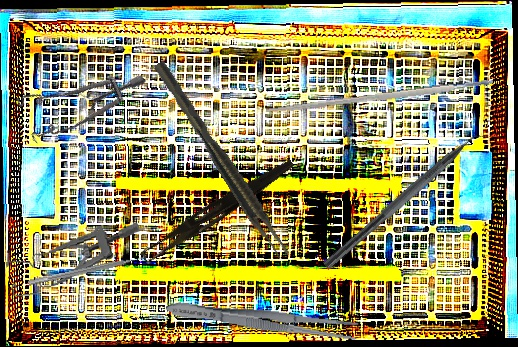Chopper: (321, 118, 500, 282)
Dressing Forceps: (138, 151, 297, 270), (164, 295, 360, 344)
Fixation Ring: (26, 245, 152, 293)
Scalpel Handle: (265, 78, 494, 116)
Speculum: (3, 23, 147, 170), (1, 220, 148, 299)
Tissue Forceps: (153, 56, 292, 263)
